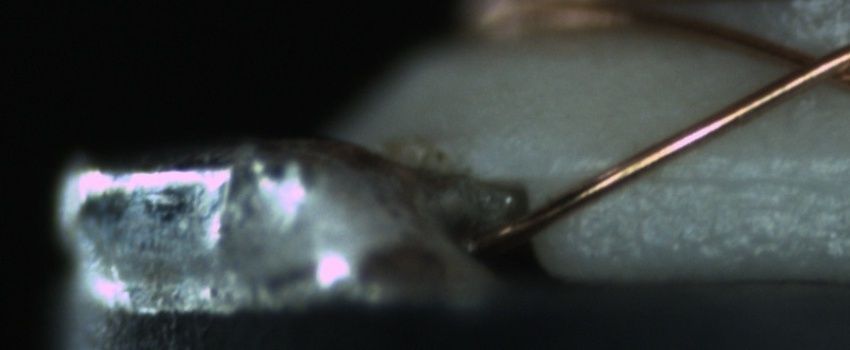CL: (769, 36, 848, 94)
DL: (612, 143, 845, 211)
